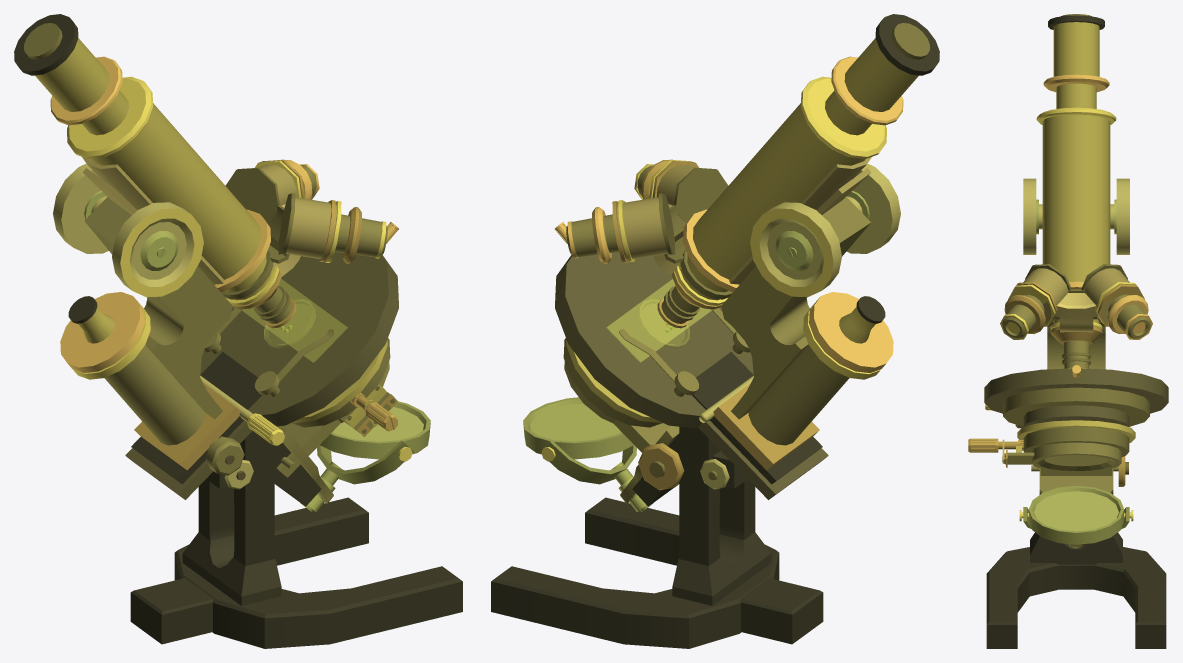
The model's file is microscope.glb.
The picture shows the model from 3 angles, left to right: view 1: azimuth 30°, elevation 25°; view 2: azimuth 150°, elevation 25°; view 3: azimuth 270°, elevation 25°; orthographic projection. The views are drawn at different scales.
Parts seen in each view (by area): view 1: polySurface157, polySurface84, polySurface149, polySurface79, polySurface115, polySurface158, polySurface64, polySurface145, polySurface83, polySurface123, polySurface124, polySurface99 (+23 smaller); view 2: polySurface157, polySurface84, polySurface149, polySurface79, polySurface115, polySurface158, polySurface123, polySurface64, polySurface145, polySurface83, polySurface124, polySurface99 (+21 smaller); view 3: polySurface149, polySurface84, polySurface123, polySurface157, polySurface173, polySurface174, polySurface145, polySurface115, polySurface92, polySurface147, polySurface133, polySurface79 (+19 smaller).
Part boxes in pixels (x1=…): polySurface157: x1=125, y1=252, x2=398, y2=499; polySurface84: x1=174, y1=497, x2=462, y2=648; polySurface149: x1=35, y1=38, x2=260, y2=343; polySurface79: x1=84, y1=197, x2=232, y2=445; polySurface115: x1=53, y1=163, x2=203, y2=297; polySurface158: x1=198, y1=431, x2=274, y2=566; polySurface64: x1=130, y1=578, x2=213, y2=644; polySurface145: x1=182, y1=532, x2=281, y2=605; polySurface83: x1=60, y1=292, x2=144, y2=372; polySurface123: x1=320, y1=401, x2=430, y2=459; polySurface124: x1=131, y1=352, x2=261, y2=484; polySurface99: x1=67, y1=76, x2=153, y2=158; polySurface157: x1=555, y1=252, x2=828, y2=499; polySurface84: x1=491, y1=497, x2=779, y2=648; polySurface149: x1=693, y1=38, x2=918, y2=343; polySurface79: x1=721, y1=197, x2=870, y2=445; polySurface115: x1=750, y1=163, x2=900, y2=297; polySurface158: x1=679, y1=426, x2=755, y2=566; polySurface123: x1=523, y1=397, x2=633, y2=459; polySurface64: x1=740, y1=578, x2=823, y2=644; polySurface145: x1=672, y1=532, x2=771, y2=605; polySurface83: x1=809, y1=292, x2=893, y2=372; polySurface124: x1=692, y1=352, x2=822, y2=484; polySurface99: x1=800, y1=76, x2=886, y2=158; polySurface149: x1=1042, y1=22, x2=1110, y2=281; polySurface84: x1=986, y1=547, x2=1166, y2=648; polySurface123: x1=1028, y1=485, x2=1124, y2=544; polySurface157: x1=984, y1=368, x2=1168, y2=413; polySurface173: x1=1003, y1=387, x2=1149, y2=426; polySurface174: x1=1031, y1=442, x2=1121, y2=472; polySurface145: x1=1030, y1=532, x2=1122, y2=564; polySurface115: x1=1023, y1=178, x2=1129, y2=254; polySurface92: x1=1002, y1=294, x2=1150, y2=368; polySurface147: x1=1023, y1=427, x2=1129, y2=456; polySurface133: x1=1023, y1=405, x2=1129, y2=426; polySurface79: x1=1047, y1=322, x2=1105, y2=369.
Size of the model in its own units: 0.0434 by 0.0653 by 0.0235.
